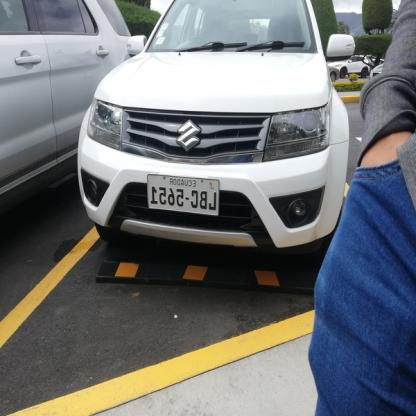Placa: (141, 174, 226, 214)
